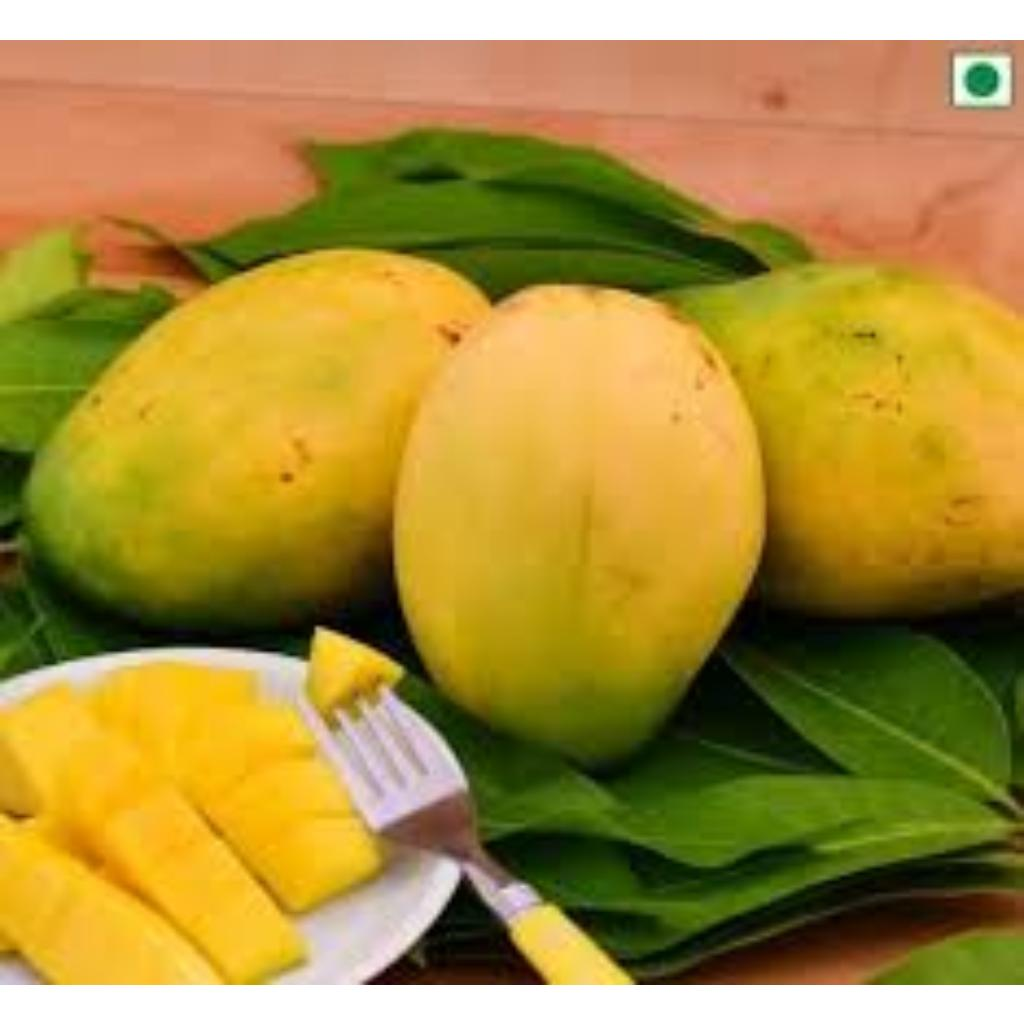mango: (389, 284, 770, 774), (3, 250, 481, 619), (650, 263, 1024, 627), (3, 654, 380, 984)
